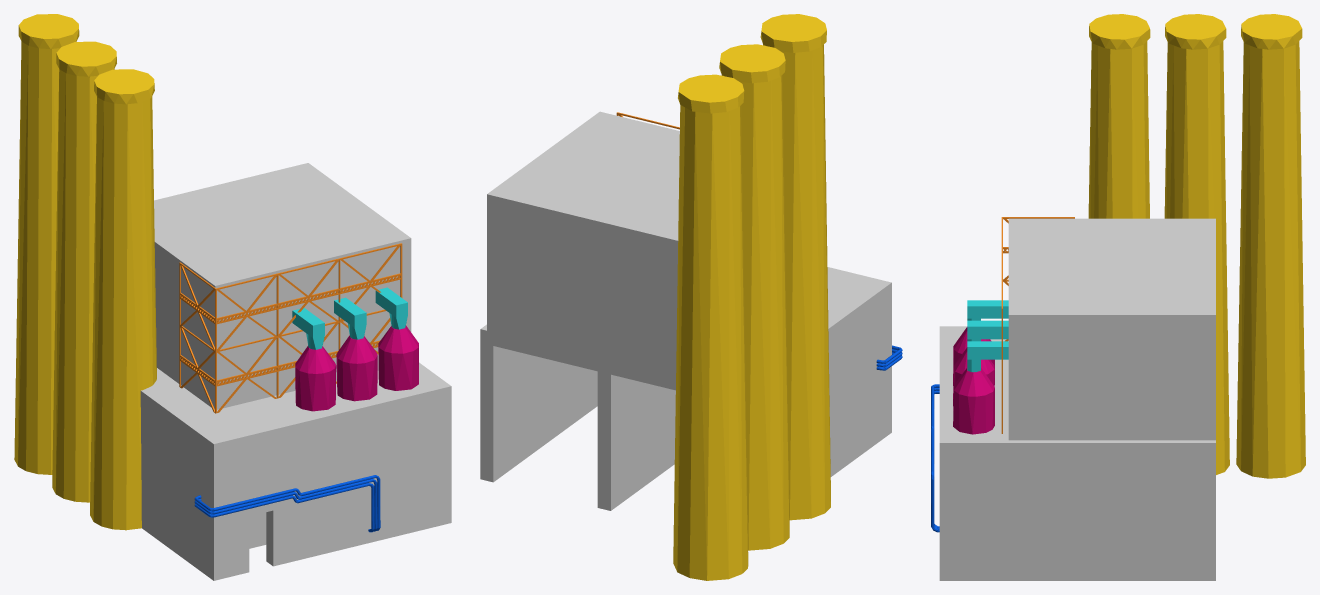
File: Power_Plant_Exterior.fbx
The picture shows the model from 3 angles, left to right: view 1: azimuth 30°, elevation 25°; view 2: azimuth 150°, elevation 25°; view 3: azimuth 270°, elevation 25°; orthographic projection. The views are drawn at different scales.
Parts seen in each view (by area): view 1: Cube.003, Cylinder, Cube.025, Cylinder.001, Cylinder.005, Cube.024, Cube.014, Cube.026, Cube.000, Cylinder.003, Cylinder.002, Cylinder.004 (+8 smaller); view 2: Cube.003, Cylinder.005, Cylinder.001, Cylinder, Cube.021, Cube.024, Cube.030, Cube.000, Cube.026; view 3: Cube.003, Cube.021, Cylinder.005, Cylinder.001, Cylinder, Cube.025, Cylinder.004, Cube.000, Cube.002, Cube.001, Cube, Cube.014 (+2 smaller).
Part boxes in pixels (x1=…): Cube.003: x1=154, y1=163, x2=411, y2=409; Cylinder: x1=90, y1=69, x2=156, y2=530; Cube.025: x1=266, y1=381, x2=451, y2=566; Cylinder.001: x1=52, y1=41, x2=116, y2=502; Cylinder.005: x1=14, y1=14, x2=79, y2=474; Cube.024: x1=140, y1=386, x2=218, y2=575; Cube.014: x1=179, y1=243, x2=402, y2=413; Cube.026: x1=207, y1=430, x2=249, y2=580; Cube.000: x1=151, y1=368, x2=431, y2=435; Cylinder.003: x1=336, y1=335, x2=377, y2=401; Cylinder.002: x1=295, y1=346, x2=336, y2=411; Cylinder.004: x1=378, y1=325, x2=418, y2=390; Cube.003: x1=487, y1=111, x2=679, y2=376; Cylinder.005: x1=673, y1=74, x2=748, y2=580; Cylinder.001: x1=719, y1=44, x2=789, y2=550; Cylinder: x1=760, y1=14, x2=830, y2=520; Cube.021: x1=480, y1=324, x2=597, y2=482; Cube.024: x1=828, y1=285, x2=884, y2=476; Cube.030: x1=597, y1=358, x2=675, y2=510; Cube.000: x1=493, y1=274, x2=870, y2=390; Cube.026: x1=845, y1=273, x2=891, y2=437; Cube.003: x1=1008, y1=218, x2=1215, y2=440; Cube.021: x1=953, y1=437, x2=1215, y2=580; Cylinder.005: x1=1236, y1=14, x2=1305, y2=478; Cylinder.001: x1=1164, y1=14, x2=1229, y2=474; Cylinder: x1=1088, y1=14, x2=1150, y2=218; Cube.025: x1=939, y1=355, x2=953, y2=580; Cylinder.004: x1=953, y1=368, x2=994, y2=434; Cube.000: x1=953, y1=332, x2=1008, y2=437; Cube.002: x1=967, y1=341, x2=1008, y2=372; Cube.001: x1=967, y1=320, x2=1008, y2=341; Cube: x1=967, y1=300, x2=1008, y2=320; Cube.014: x1=1001, y1=217, x2=1074, y2=433.
Bounding box in the file's own units: 4501 × 6980 × 5424.
